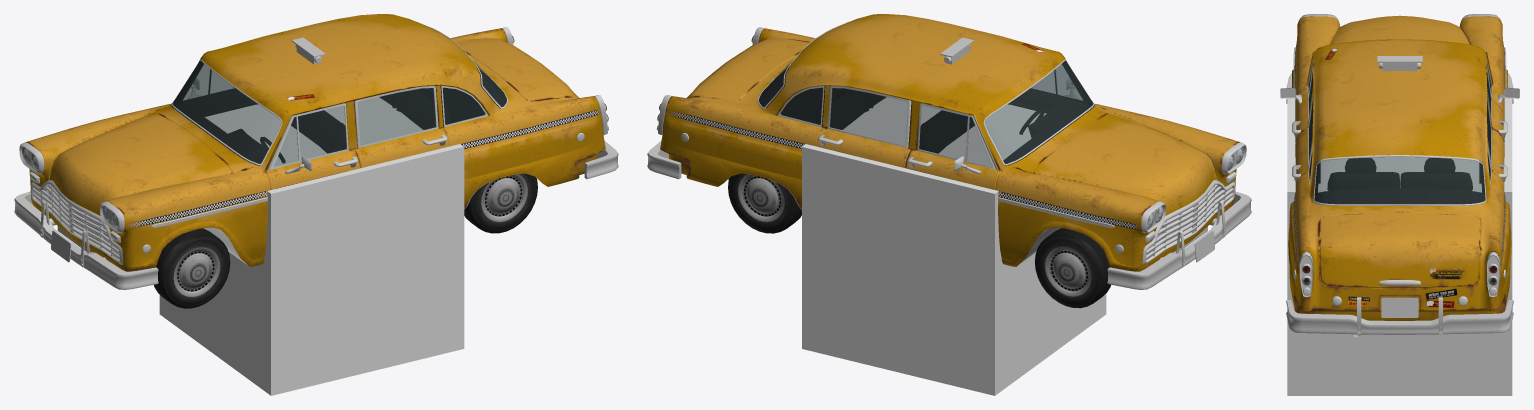
File: untitledq.fbx
3 renders of one model, left to right at view 1: azimuth 30°, elevation 25°; view 2: azimuth 150°, elevation 25°; view 3: azimuth 270°, elevation 25°, orthographic.
Parts seen in each view (by area): view 1: Cube, Body, Fenders_Front, Hood, Windshield, Wheel_FL, Trunk_door, Bumper_front, Door_Glass_RL, Wheel_RL, Seats, Door_Glass_FL (+14 smaller); view 2: Cube, Body, Fenders_Front, Hood, Windshield, Wheel_FR, Trunk_door, Bumper_front, Door_Glass_RR, Wheel_RR, Seats, Door_Glass_FR (+14 smaller); view 3: Body, Cube, Trunk_door, Rear_windows, Bumper_rear, Fenders_Front, Seats, Interior, Hood, Windows_trim, Taillights, Numberplate_rear (+13 smaller).
Part boxes in pixels (left/top/right/bottom): Cube: left=159, top=97, right=464, bottom=395; Body: left=152, top=14, right=605, bottom=208; Fenders_Front: left=26, top=104, right=270, bottom=271; Hood: left=49, top=113, right=233, bottom=215; Windshield: left=173, top=61, right=280, bottom=163; Wheel_FL: left=154, top=228, right=230, bottom=308; Trunk_door: left=455, top=38, right=578, bottom=101; Bumper_front: left=14, top=191, right=158, bottom=289; Door_Glass_RL: left=358, top=88, right=436, bottom=145; Wheel_RL: left=464, top=173, right=537, bottom=233; Seats: left=291, top=88, right=450, bottom=153; Door_Glass_FL: left=274, top=106, right=346, bottom=166; Cube: left=802, top=97, right=1106, bottom=395; Body: left=660, top=14, right=1113, bottom=209; Fenders_Front: left=995, top=104, right=1239, bottom=271; Hood: left=1033, top=113, right=1216, bottom=215; Windshield: left=985, top=61, right=1092, bottom=163; Wheel_FR: left=1035, top=228, right=1110, bottom=308; Trunk_door: left=687, top=38, right=810, bottom=101; Bumper_front: left=1107, top=191, right=1251, bottom=289; Door_Glass_RR: left=829, top=88, right=907, bottom=145; Wheel_RR: left=728, top=173, right=801, bottom=233; Seats: left=815, top=88, right=974, bottom=153; Door_Glass_FR: left=919, top=106, right=991, bottom=166; Body: left=1288, top=39, right=1511, bottom=320; Cube: left=1287, top=98, right=1512, bottom=395; Trunk_door: left=1319, top=212, right=1480, bottom=287; Rear_windows: left=1308, top=147, right=1491, bottom=204; Bumper_rear: left=1286, top=297, right=1513, bottom=334; Fenders_Front: left=1292, top=16, right=1507, bottom=94; Seats: left=1327, top=158, right=1472, bottom=190; Interior: left=1309, top=73, right=1490, bottom=204; Hood: left=1330, top=15, right=1469, bottom=44; Windows_trim: left=1308, top=143, right=1491, bottom=205; Taillights: left=1299, top=251, right=1500, bottom=297; Numberplate_rear: left=1381, top=297, right=1418, bottom=317.
Bounding box in the file's own units: 530 × 283 × 213.
